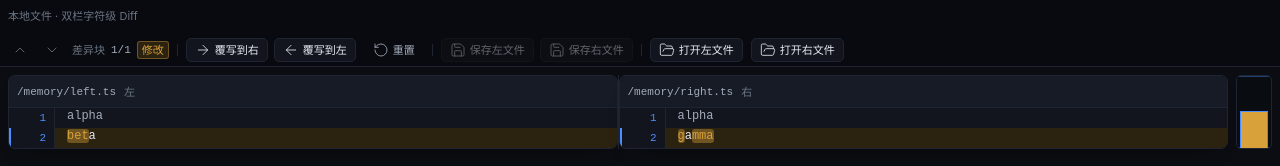
Test: in-place save and dirty marker › writes the left side back to its loaded path
The image size is (1280, 166).
Click the button "覆写到左". click: click(315, 50)
box: top-left (274, 38), bottom-right (356, 62)
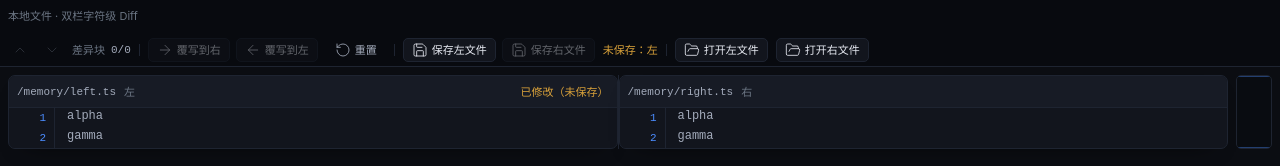
Click the button "保存左文件". click: click(449, 50)
box: top-left (403, 38), bottom-right (496, 62)
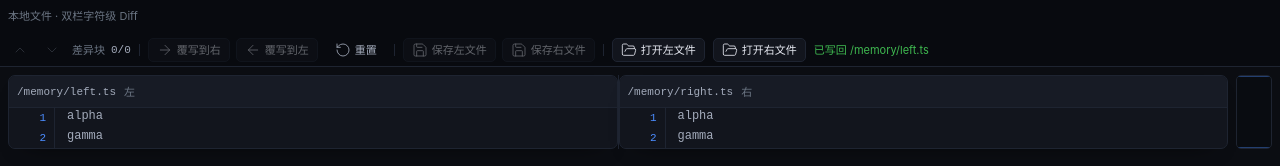
Expected: the text "/memory/left.ts" is shown, top-left (17, 84), bottom-right (116, 100)
Expected: the text "已写回 /memory/left.ts" is shown, top-left (814, 42), bottom-right (929, 58)
Expected: the text "已修改（未保存）" is gone
